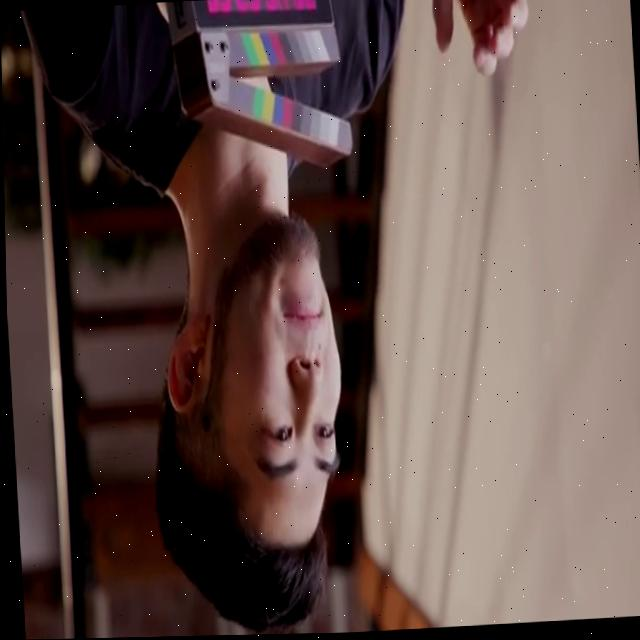Clapperboard: (165, 0, 354, 183)
